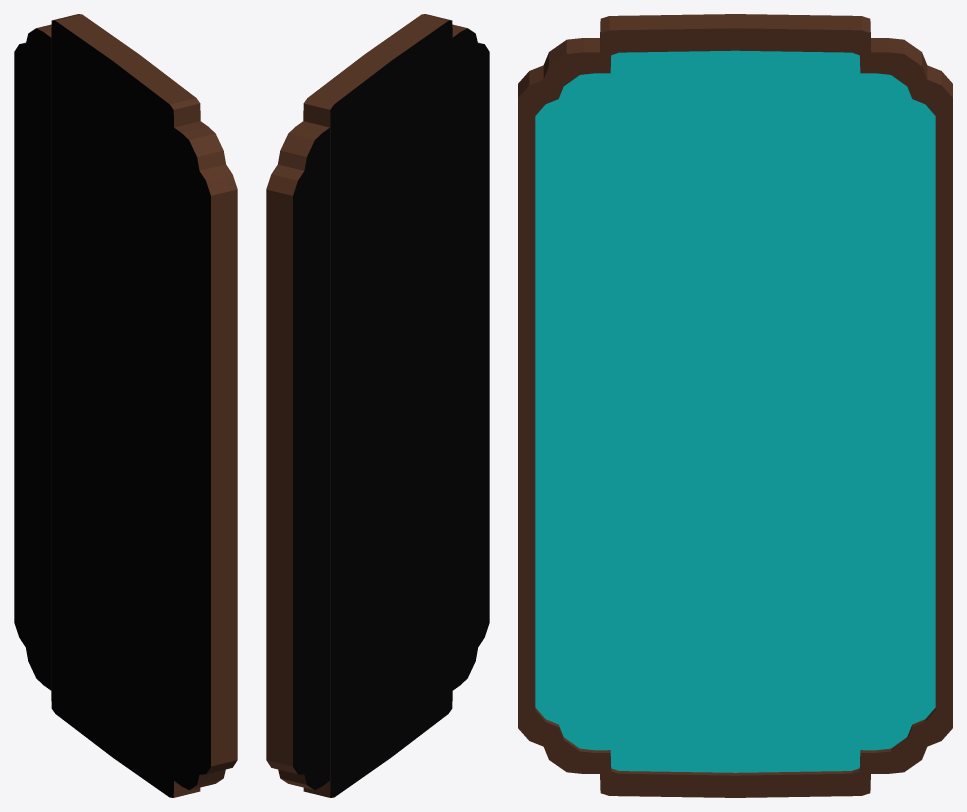
File: Mirror.fbx
The picture shows the model from 3 angles, left to right: view 1: azimuth 30°, elevation 25°; view 2: azimuth 150°, elevation 25°; view 3: azimuth 270°, elevation 25°; orthographic projection. The views are drawn at different scales.
Visible parts, largest first — view 1: Cube; view 2: Cube; view 3: Cube.
Boxes of the visible parts, bbox=[...] form: Cube: bbox=[14, 14, 237, 797]; Cube: bbox=[266, 14, 489, 797]; Cube: bbox=[518, 14, 952, 797].
Size of the model in its own units: 20 by 500 by 256.
